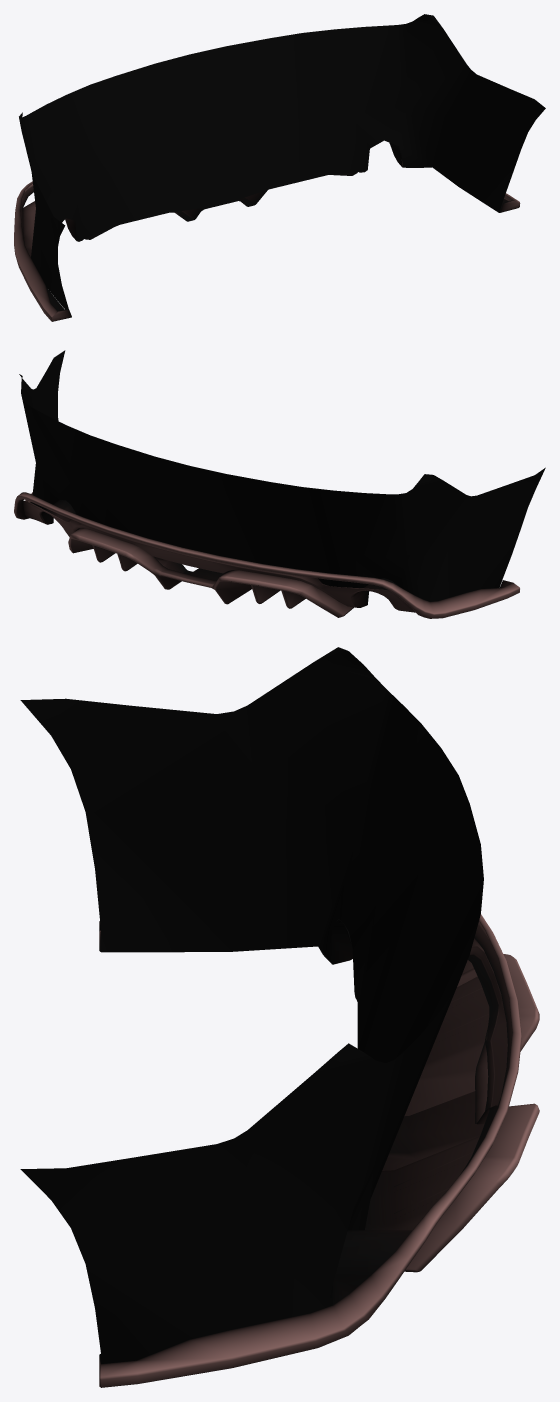
File: Mustang16_RB_05_Trim.fbx
The picture shows the model from 3 angles, top to bottom: view 1: azimuth 30°, elevation 25°; view 2: azimuth 150°, elevation 25°; view 3: azimuth 270°, elevation 25°; orthographic projection. The views are drawn at different scales.
Visible parts, largest first — view 1: Mustang16_RB_05_Trim; view 2: Mustang16_RB_05_Trim; view 3: Mustang16_RB_05_Trim.
Boxes of the visible parts, x1,y1,x2,y2 form: Mustang16_RB_05_Trim: (14, 14, 545, 321); Mustang16_RB_05_Trim: (14, 350, 545, 618); Mustang16_RB_05_Trim: (20, 647, 539, 1387).
Size of the model in its own units: 187 by 58.26 by 87.36.
